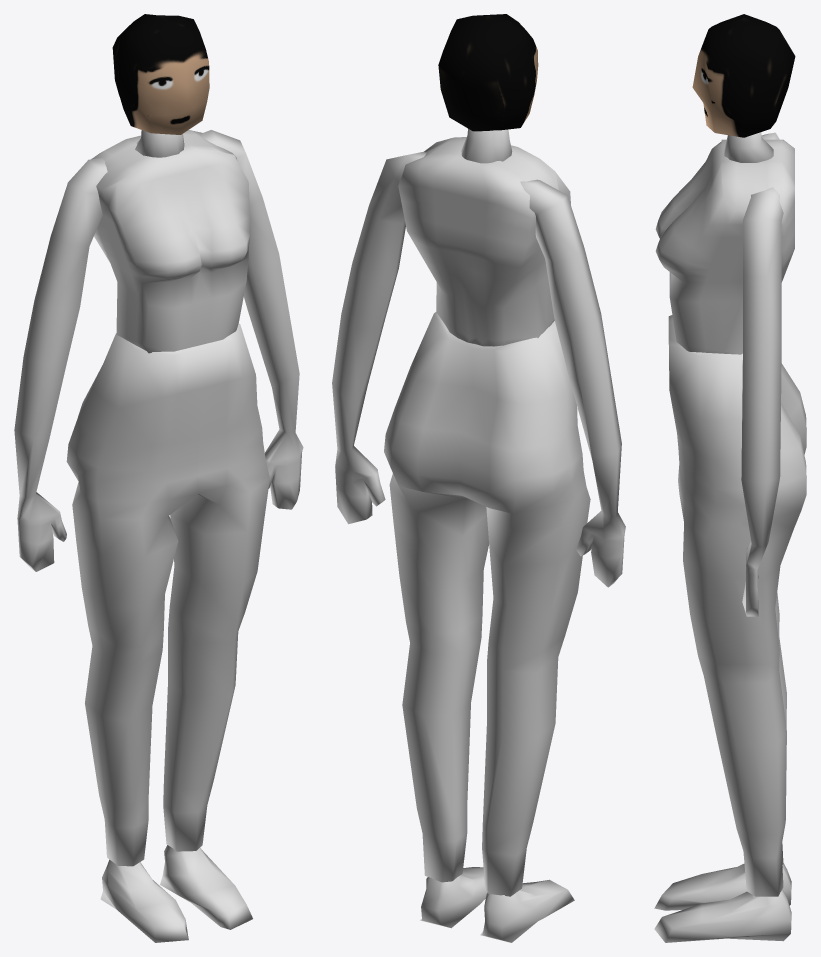
The model's file is GameModel3.glb.
3 renders of one model, left to right at view 1: azimuth 30°, elevation 25°; view 2: azimuth 150°, elevation 25°; view 3: azimuth 270°, elevation 25°, orthographic.
Parts seen in each view (by area): view 1: Waist And Legs.002, Torso.002, Arms, Head, Feet, Neck.002; view 2: Waist And Legs.002, Arms, Torso.002, Head, Feet, Neck.002; view 3: Waist And Legs.002, Torso.002, Arms, Head, Feet, Neck.002.
Boxes of the visible parts, left/top/right/bottom form: Waist And Legs.002: left=66, top=323, right=269, bottom=866; Torso.002: left=91, top=130, right=250, bottom=353; Arms: left=14, top=130, right=303, bottom=571; Head: left=112, top=14, right=209, bottom=134; Feet: left=100, top=845, right=252, bottom=942; Neck.002: left=135, top=130, right=184, bottom=157; Waist And Legs.002: left=384, top=312, right=590, bottom=896; Arms: left=332, top=152, right=625, bottom=587; Torso.002: left=398, top=137, right=570, bottom=346; Head: left=438, top=14, right=538, bottom=131; Feet: left=420, top=867, right=574, bottom=942; Neck.002: left=461, top=128, right=512, bottom=163; Waist And Legs.002: left=668, top=315, right=806, bottom=896; Torso.002: left=655, top=139, right=794, bottom=354; Arms: left=741, top=132, right=783, bottom=616; Head: left=692, top=14, right=795, bottom=137; Feet: left=654, top=863, right=791, bottom=942; Neck.002: left=724, top=132, right=773, bottom=162.
Size of the model in its own units: 1.28 by 3.85 by 0.5912.
1 material, 1 textured.
